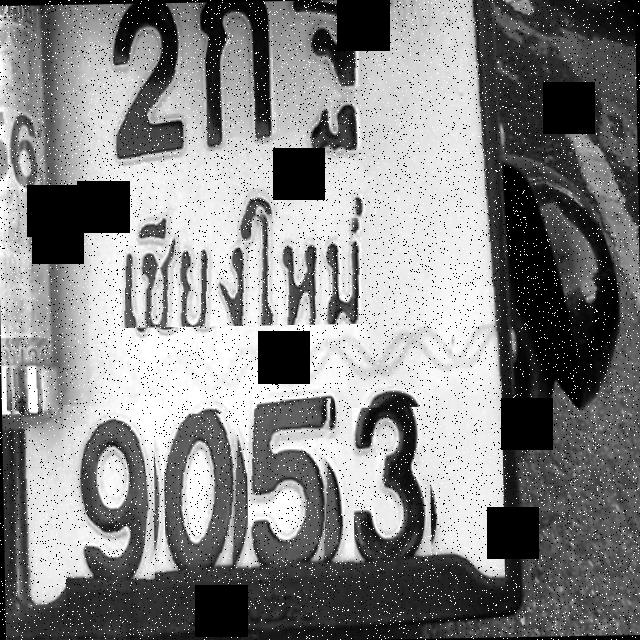letters: (62, 402, 158, 618), (274, 0, 382, 177), (245, 398, 334, 572), (100, 2, 184, 176), (162, 412, 242, 578), (188, 1, 275, 152), (352, 406, 432, 570)
license-plate: (0, 0, 505, 608)
province: (112, 202, 388, 328)
